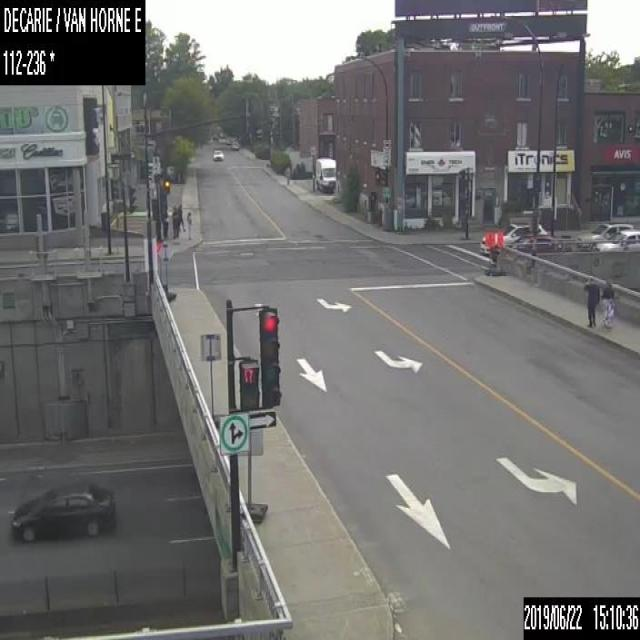construction: (242, 426, 268, 522), (200, 331, 221, 426), (485, 231, 493, 275)
pedestrian: (583, 276, 599, 327), (599, 278, 614, 327), (171, 203, 179, 240), (178, 202, 184, 230), (186, 210, 192, 238)
vehicle: (11, 482, 114, 542), (489, 232, 570, 263), (478, 222, 546, 254), (573, 220, 639, 247), (589, 229, 639, 248), (315, 156, 336, 192), (213, 148, 223, 160), (231, 140, 239, 149)
